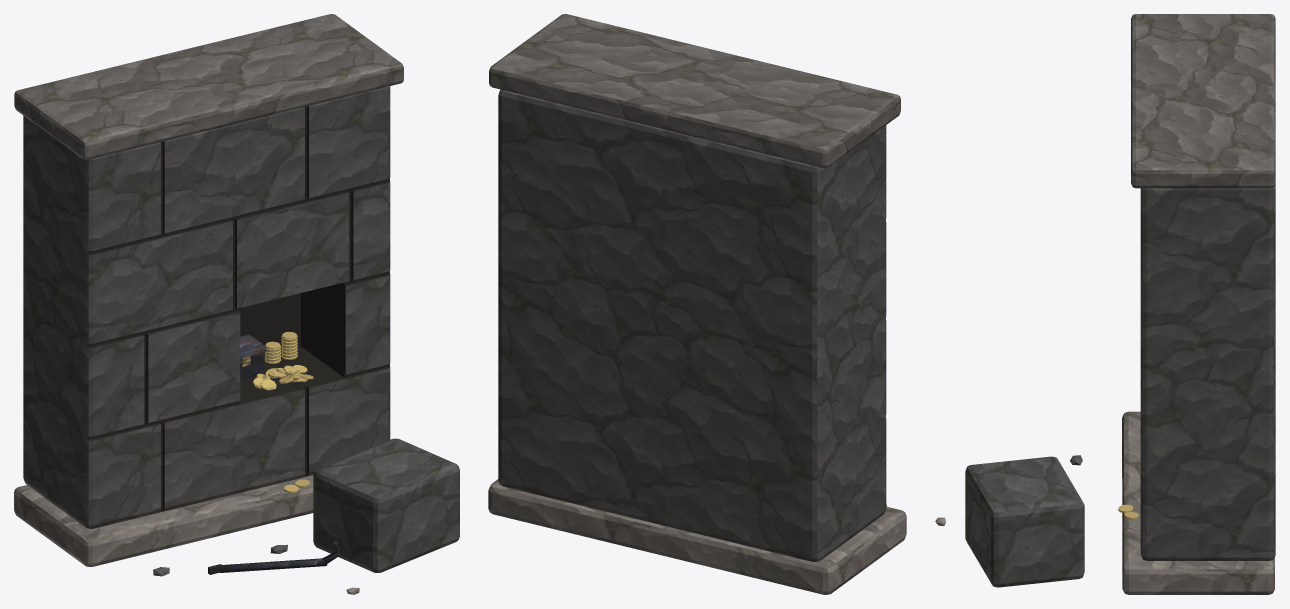
Rendered from bv_coin_niche_found.glb.
The picture shows the model from 3 angles, left to right: view 1: azimuth 30°, elevation 25°; view 2: azimuth 150°, elevation 25°; view 3: azimuth 270°, elevation 25°; orthographic projection. The views are drawn at different scales.
Visible parts, largest first — view 1: model; view 2: model; view 3: model.
Boxes of the visible parts, x1,y1,x2,y2 form: model: (14, 14, 459, 594); model: (488, 14, 906, 594); model: (935, 14, 1275, 594).
Bounding box in the file's own units: 1.17 × 1.47 × 1.06.
Materials: 29 (6 with a texture image).
